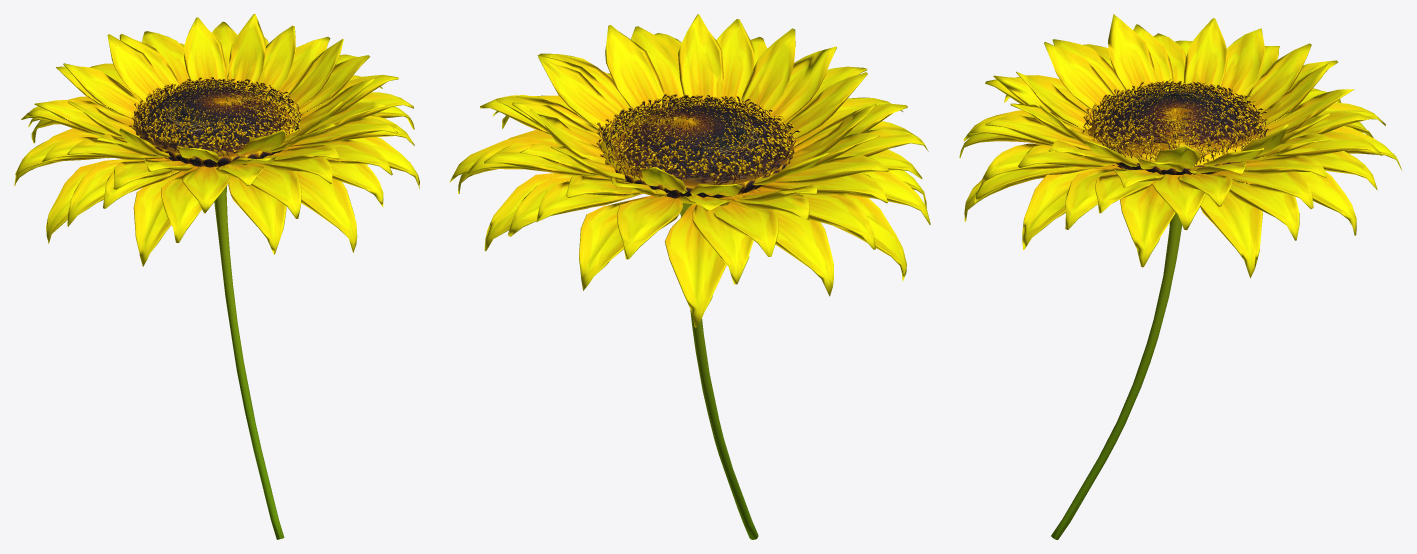
File: sunflower.glb
The picture shows the model from 3 angles, left to right: view 1: azimuth 30°, elevation 25°; view 2: azimuth 150°, elevation 25°; view 3: azimuth 270°, elevation 25°; orthographic projection. The views are drawn at different scales.
Parts seen in each view (by area): view 1: Petals_Main, Stem_Etc, Petals_INNER, Petals_INNER.1; view 2: Petals_Main, Stem_Etc, Petals_INNER, Petals_INNER.1; view 3: Petals_Main, Stem_Etc, Petals_INNER, Petals_INNER.1.
Part boxes in pixels (bbox=[...]): Petals_Main: bbox=[14, 14, 419, 266]; Stem_Etc: bbox=[133, 87, 300, 539]; Petals_INNER: bbox=[128, 76, 301, 163]; Petals_INNER.1: bbox=[131, 78, 302, 159]; Petals_Main: bbox=[449, 14, 930, 327]; Stem_Etc: bbox=[599, 105, 794, 539]; Petals_INNER: bbox=[596, 93, 800, 185]; Petals_INNER.1: bbox=[595, 92, 798, 184]; Petals_Main: bbox=[959, 14, 1401, 277]; Stem_Etc: bbox=[1051, 91, 1265, 539]; Petals_INNER: bbox=[1082, 80, 1269, 167]; Petals_INNER.1: bbox=[1085, 79, 1266, 172].
Size of the model in its own units: 2737 by 3136 by 2722.
5 materials, 5 textured.
